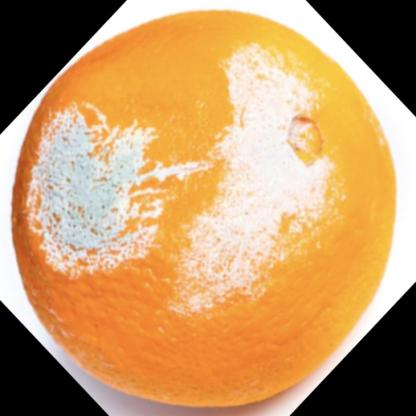rotten: (13, 12, 404, 411)
